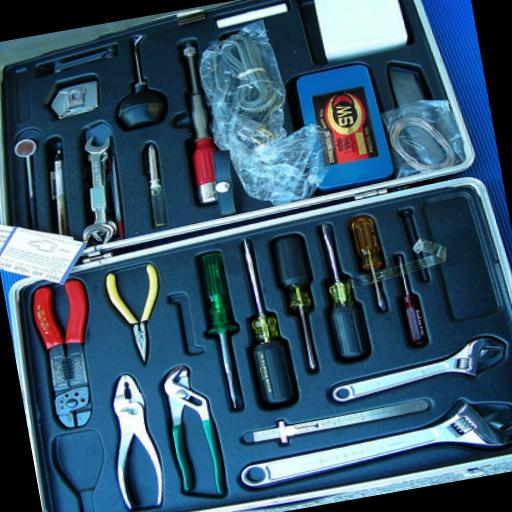screwdriver: (236, 236, 293, 404), (194, 250, 250, 412), (271, 232, 326, 372), (314, 220, 364, 360), (350, 213, 390, 314), (392, 254, 427, 346)
